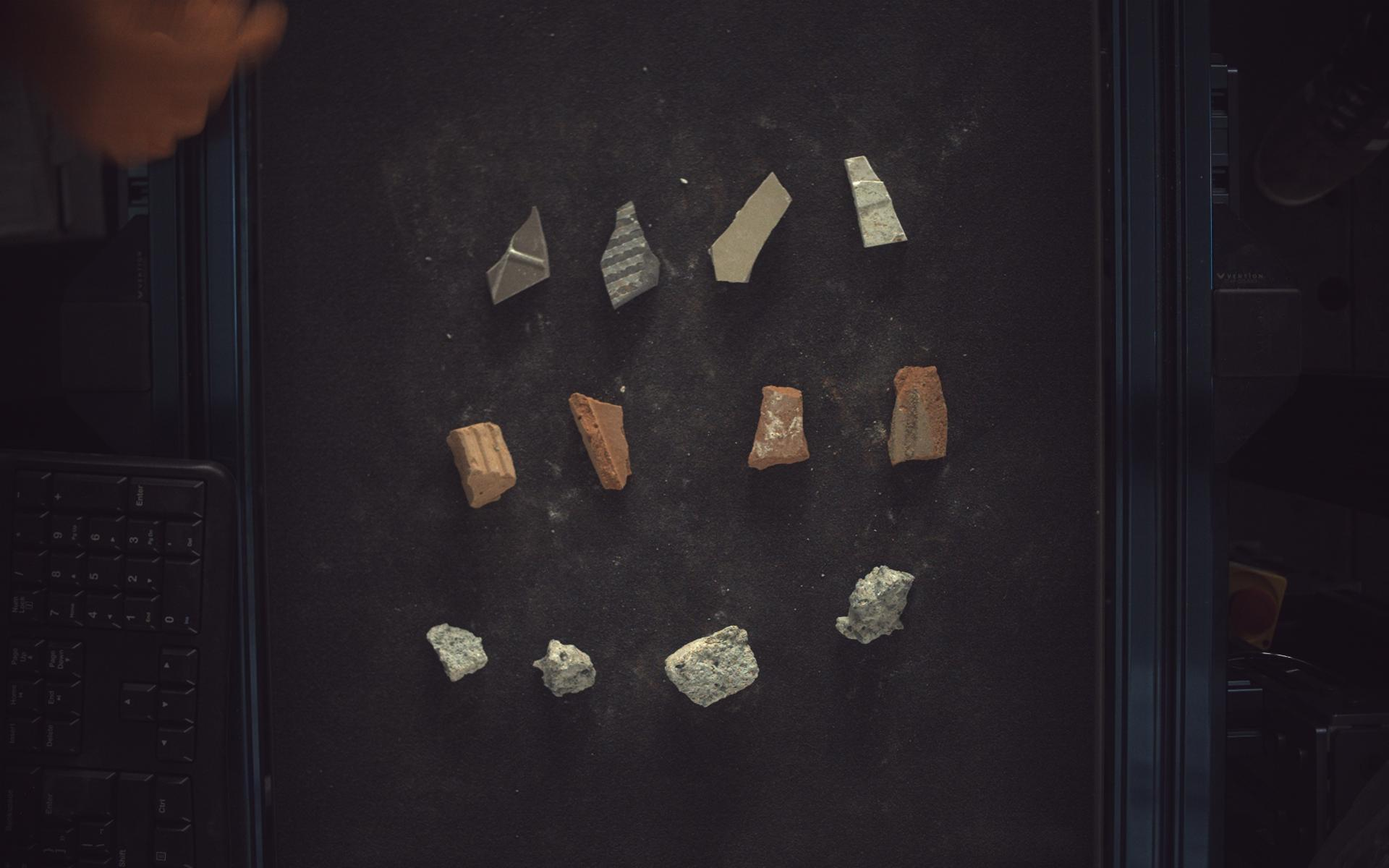brick: (569, 393, 632, 490), (447, 422, 517, 509), (890, 366, 949, 465), (749, 386, 810, 469)
concrete: (667, 626, 760, 707), (838, 566, 917, 645), (426, 624, 488, 683), (534, 641, 597, 698)
tile: (710, 171, 793, 282), (601, 200, 660, 309), (487, 205, 551, 304), (846, 155, 909, 247)
